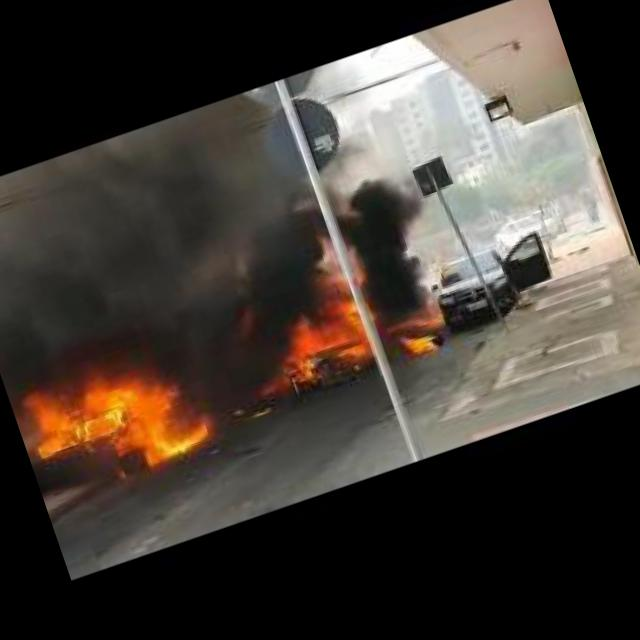fire: (11, 340, 222, 501), (260, 250, 380, 384), (401, 325, 438, 361)
smoke: (0, 89, 355, 448)
